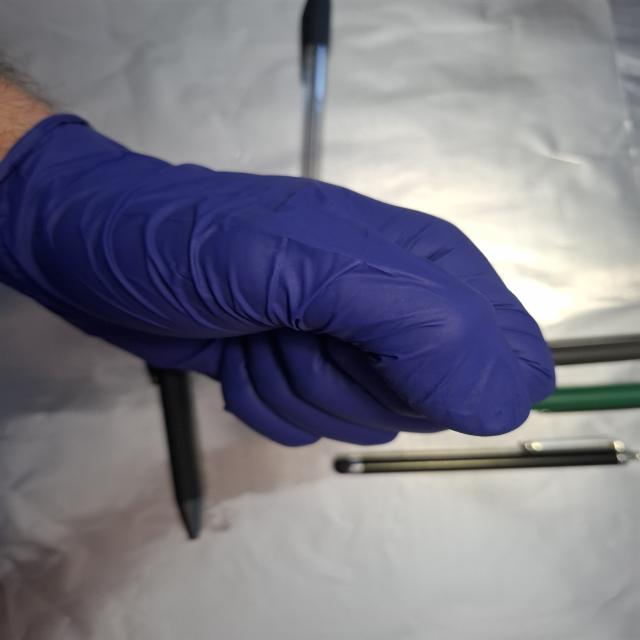glove_on: (1, 106, 563, 453)
